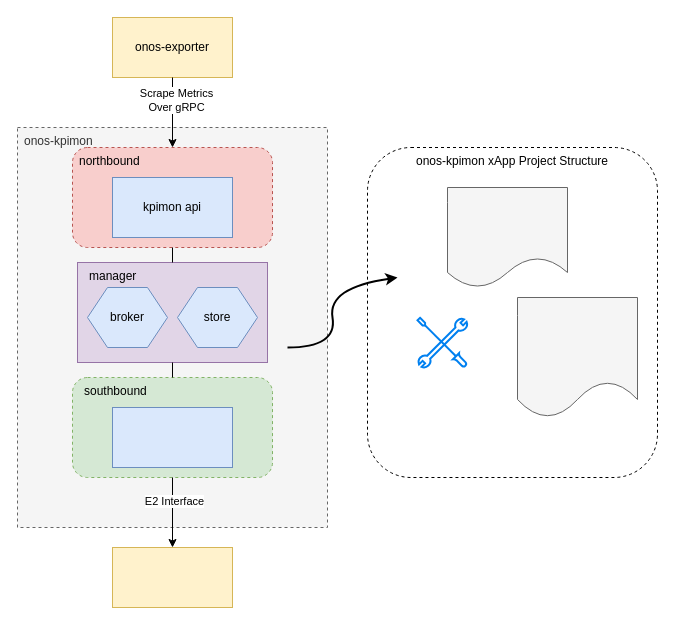
Image size: 675x625. Some labels were removed from this diagram. The centre of each missing label's shape, as x and y in pixels:
"Build Tools" goes at [442,342].
"e2t" goes at [172,577].
"go.mod onos-ric-sdk-go onos-lib-go ...." goes at [577,357].
"Golang Project - cmd - pkg - test" goes at [507,237].
"monitoring" goes at [172,437].
